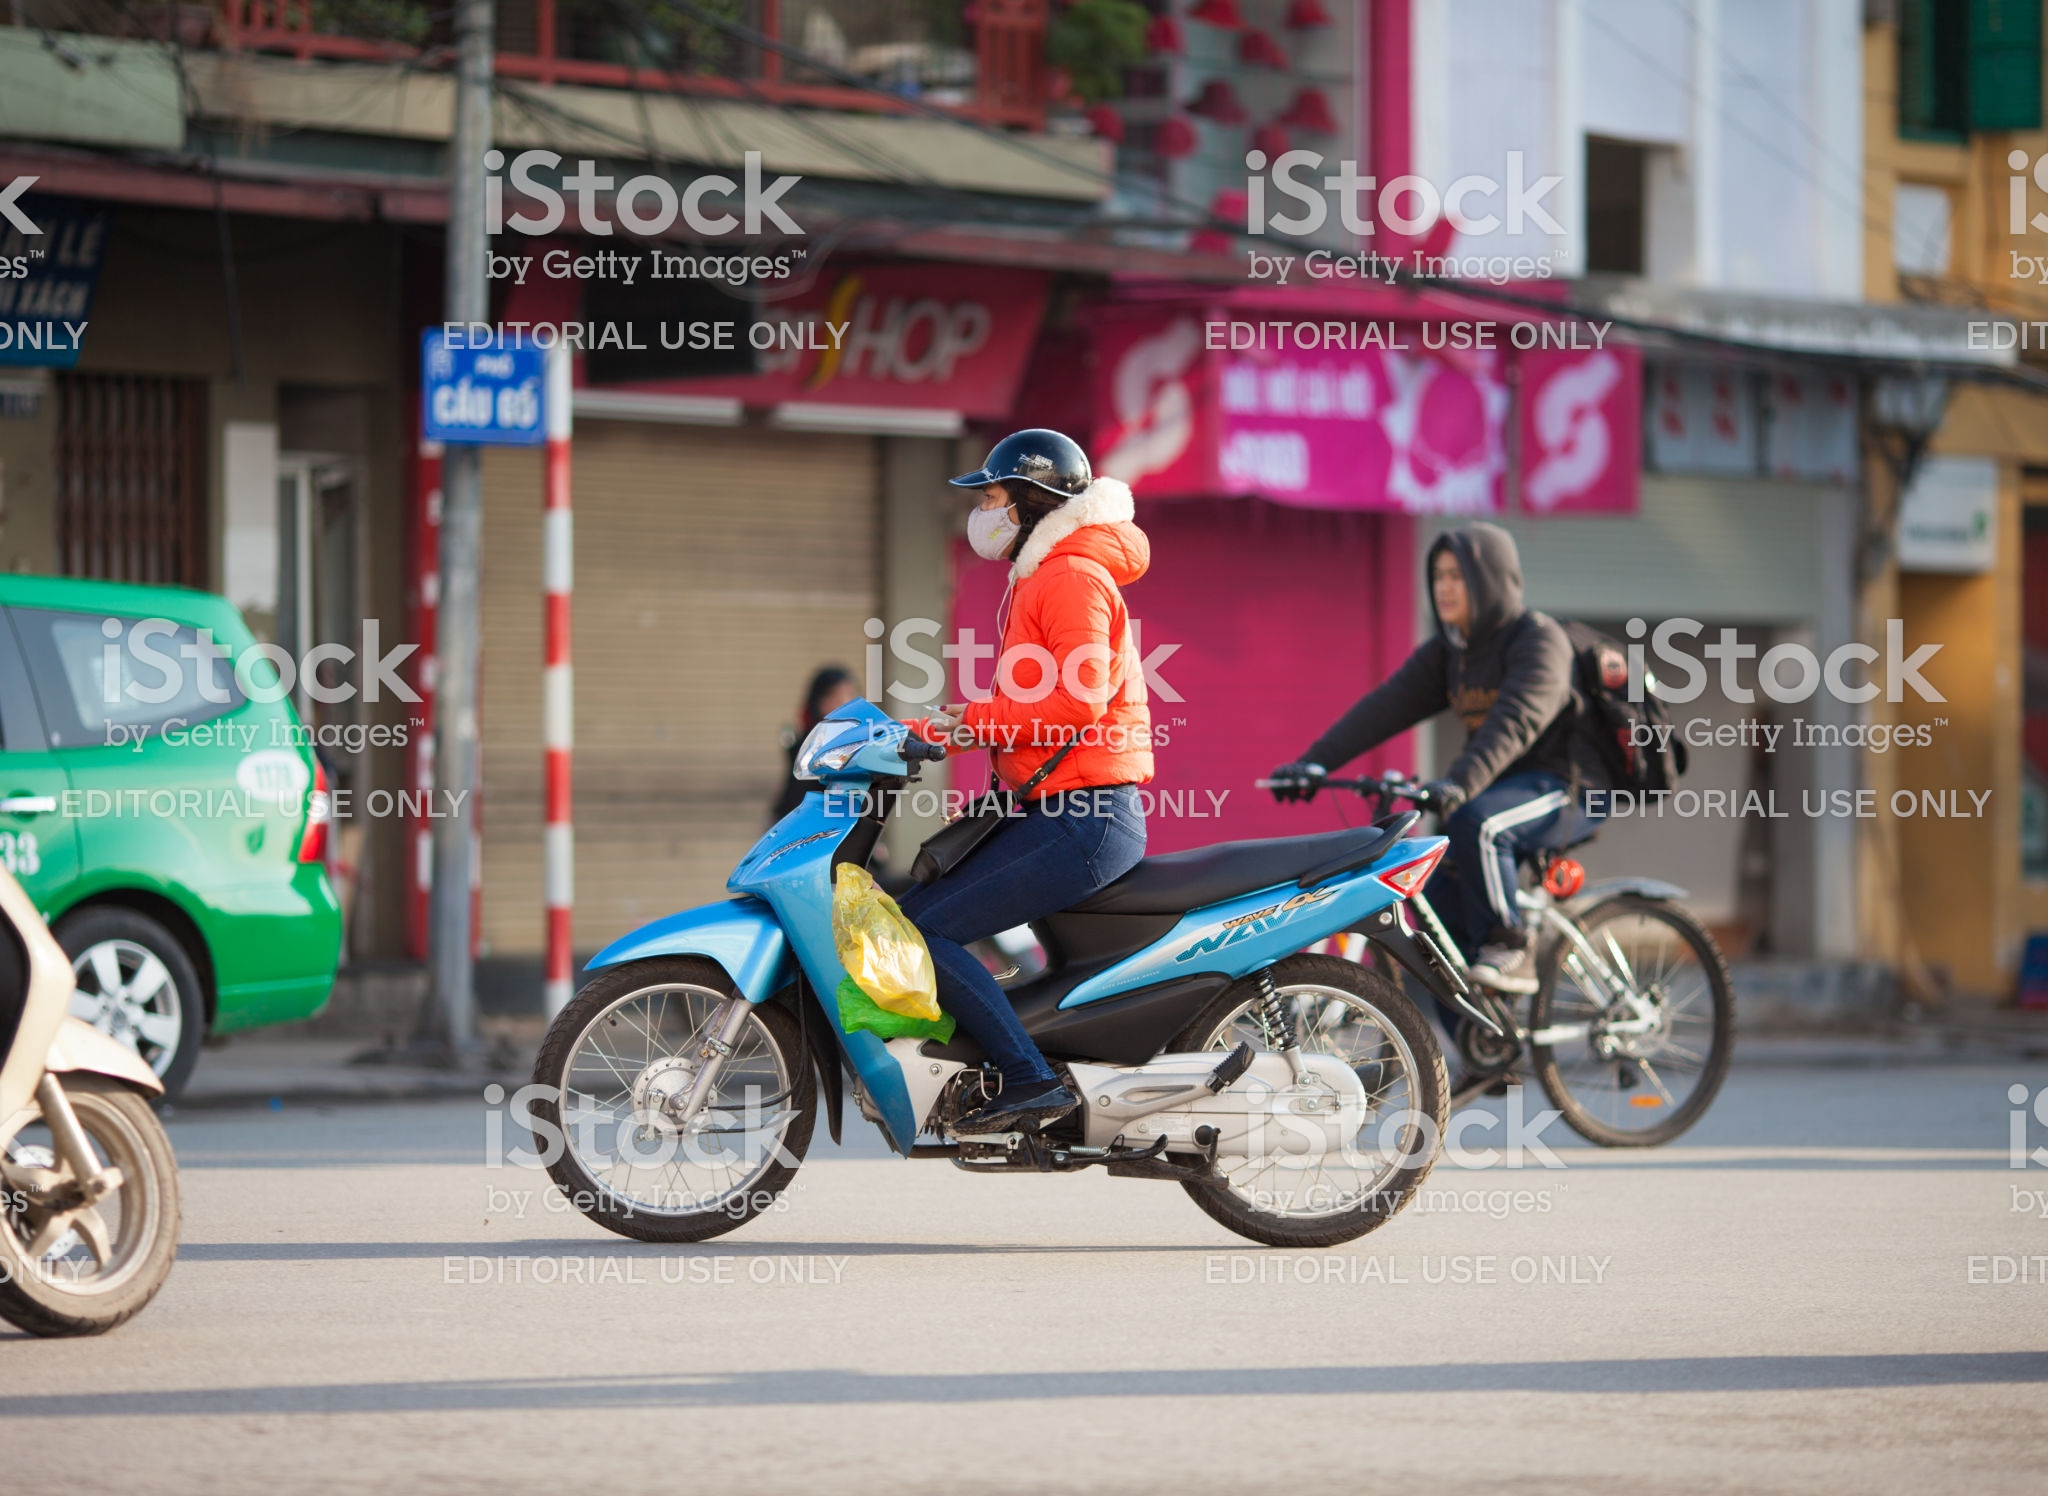helmet: (956, 437, 1089, 506)
